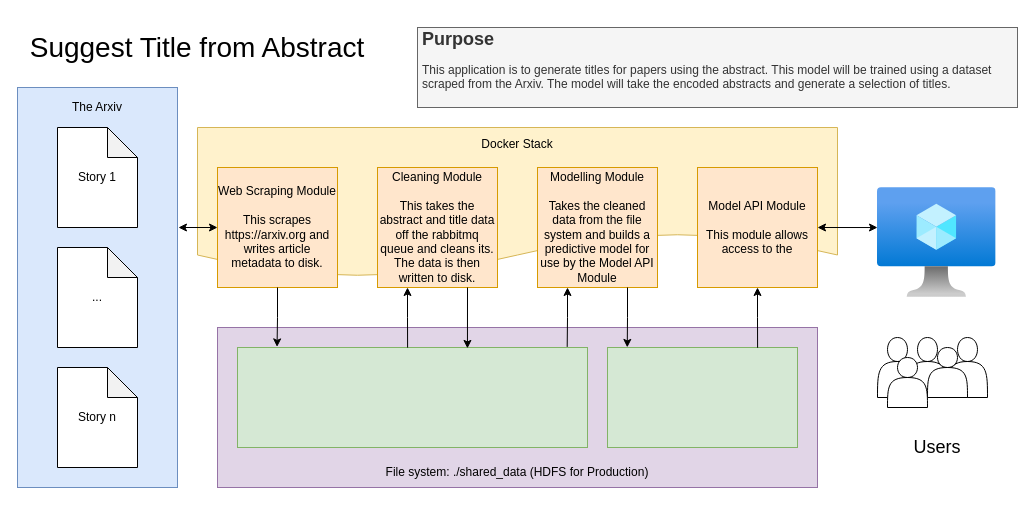
Image size: 1035x505. Some labels were removed from this diagram. Each missing label, with the centre of its shape:
"/data/scraped" goes at [412,397].
"/models" goes at [702,397].
"Web Browser" goes at [936,242].
